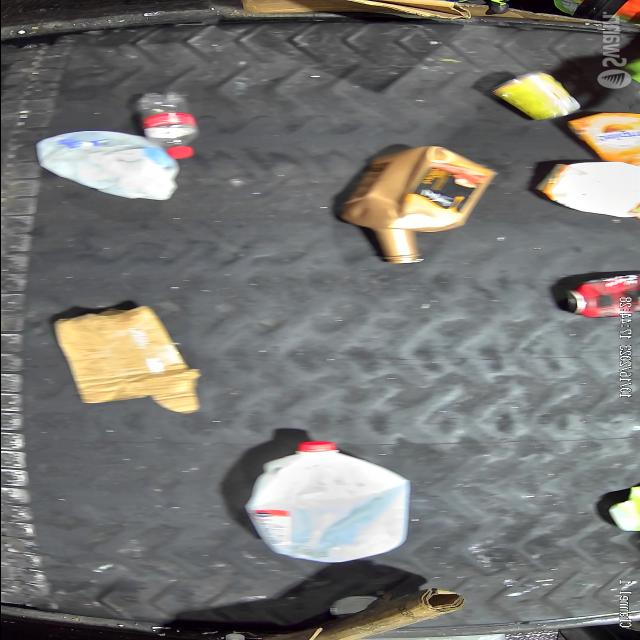can: (488, 68, 586, 120), (560, 270, 640, 318)
milk_jug: (238, 439, 416, 565), (31, 132, 182, 204)
non_white_jug: (342, 147, 496, 263)
plastic_bottle: (128, 90, 201, 158)
